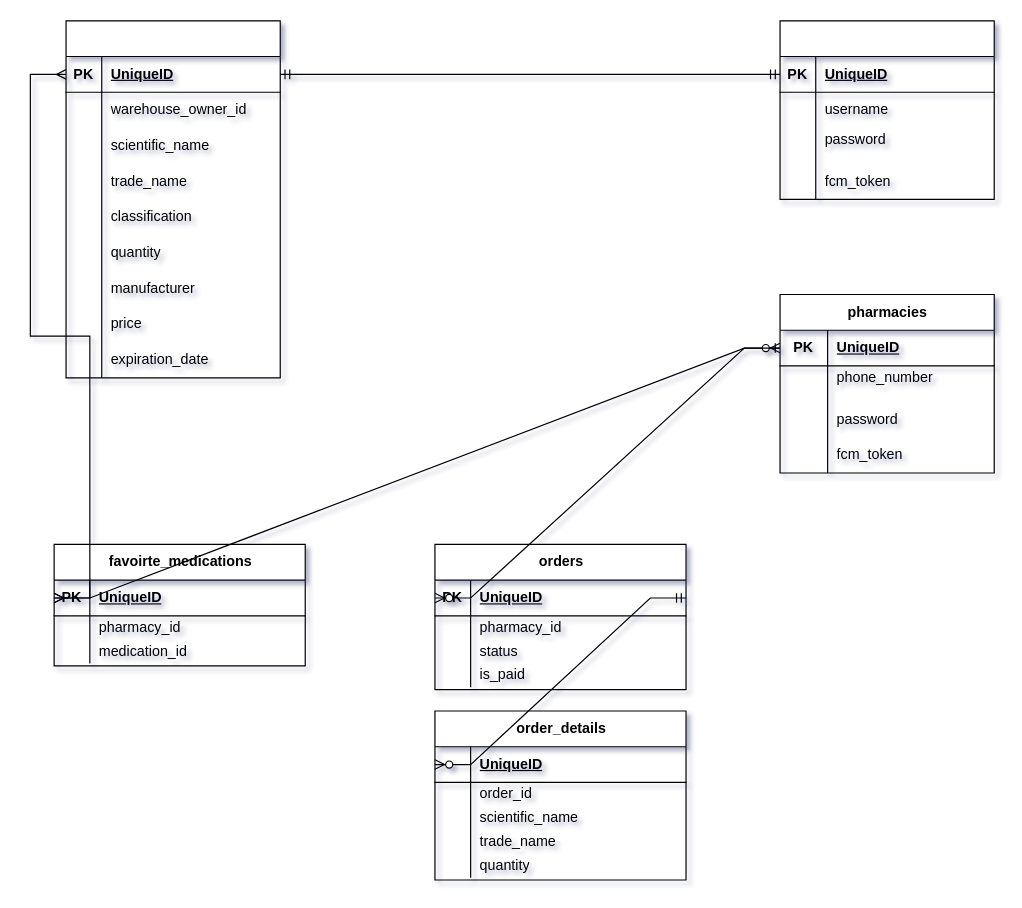
This 1022x908 diagram has some shape labels left out. The box of each missing label's shape, as (x1, y1, x2, y2) in pixels:
medicatinos: (65, 20, 280, 378)
warehouse_owner: (779, 20, 994, 199)
